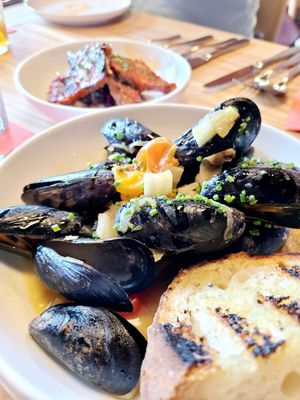pizza: (0, 0, 11, 58)
sushi: (0, 98, 300, 400), (13, 39, 192, 124), (26, 0, 133, 27)
